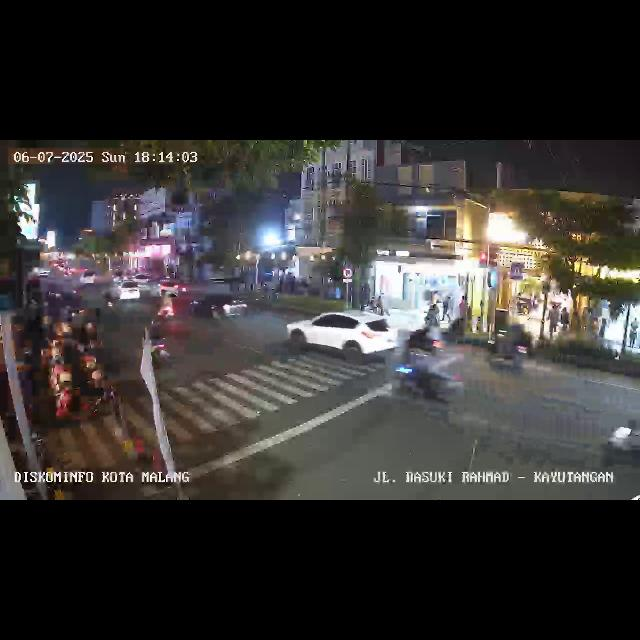car: (288, 308, 398, 364), (186, 292, 254, 324), (108, 278, 150, 304), (156, 278, 186, 298), (77, 269, 95, 287)
motorcycle: (388, 348, 468, 412), (601, 408, 639, 494), (488, 324, 530, 374), (141, 320, 175, 372), (409, 318, 443, 356), (157, 290, 176, 326), (104, 284, 118, 312)
person: (548, 302, 560, 340), (560, 302, 570, 336), (440, 296, 450, 326), (598, 315, 608, 343), (631, 322, 639, 350), (458, 296, 468, 318)
